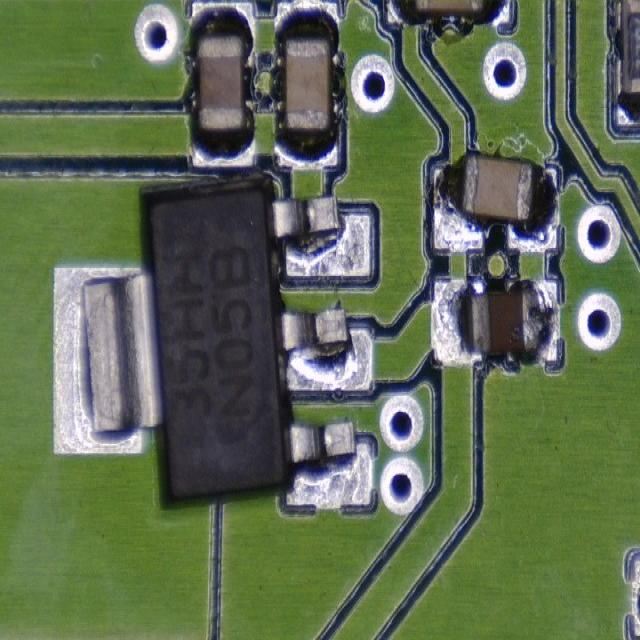Incorrect_installation: (52, 177, 373, 507), (433, 154, 556, 250)
